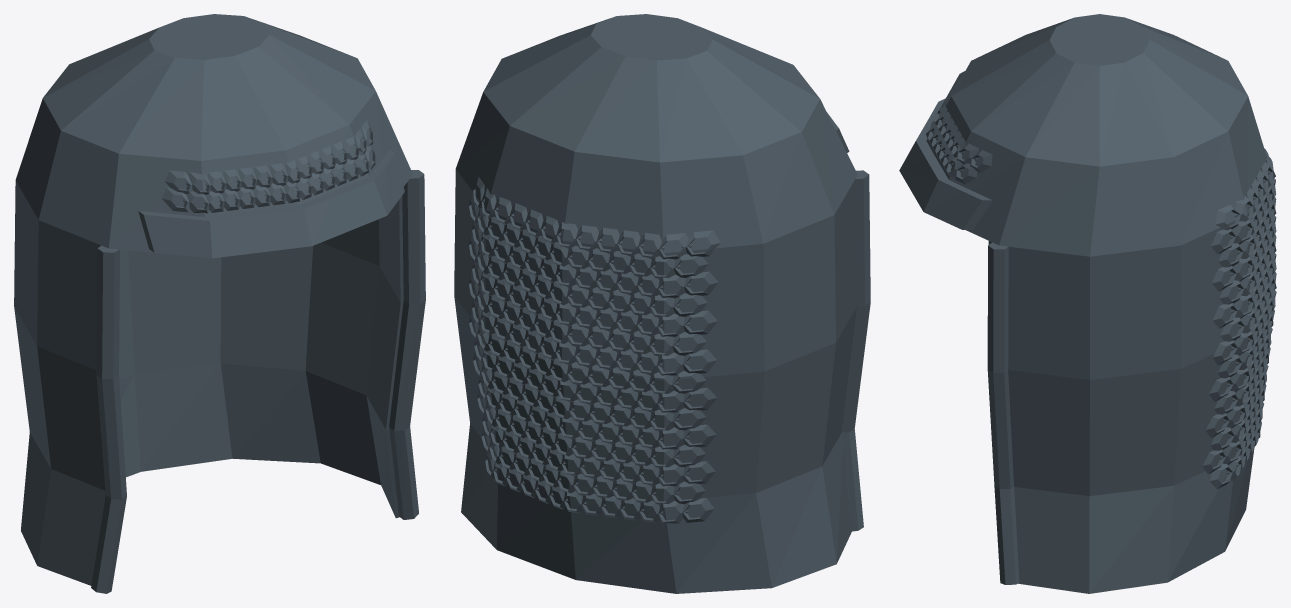
The model's file is chain_head-female.glb.
3 renders of one model, left to right at view 1: azimuth 30°, elevation 25°; view 2: azimuth 150°, elevation 25°; view 3: azimuth 270°, elevation 25°, orthographic. The views are drawn at different scales.
Visible parts, largest first — view 1: chain joined crown and cowl, Fitted brow binding, Bound face opening -1, Bound face opening 1, chain woven coverage on chain joined crown and cowl; view 2: chain joined crown and cowl, chain coif nape coverage, Bound face opening -1; view 3: chain joined crown and cowl, chain coif nape coverage, Bound face opening 1, Fitted brow binding, chain woven coverage on chain joined crown and cowl.
Part boxes in pixels (x1,y1,x2,y2): chain joined crown and cowl: (14,14,412,585); Fitted brow binding: (138,150,404,258); Bound face opening -1: (91,245,126,593); Bound face opening 1: (389,170,425,519); chain woven coverage on chain joined crown and cowl: (162,120,375,213); chain joined crown and cowl: (454,14,857,593); chain coif nape coverage: (468,177,720,524); Bound face opening -1: (841,170,870,531); chain joined crown and cowl: (926,14,1269,593); chain coif nape coverage: (1202,148,1276,489); Bound face opening 1: (987,242,1019,584); Fitted brow binding: (899,98,992,229); chain woven coverage on chain joined crown and cowl: (926,71,992,184).
Size of the model in its own units: 0.9973 by 1.3 by 0.9421.
